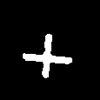single_crochet: (23, 34, 71, 77)
